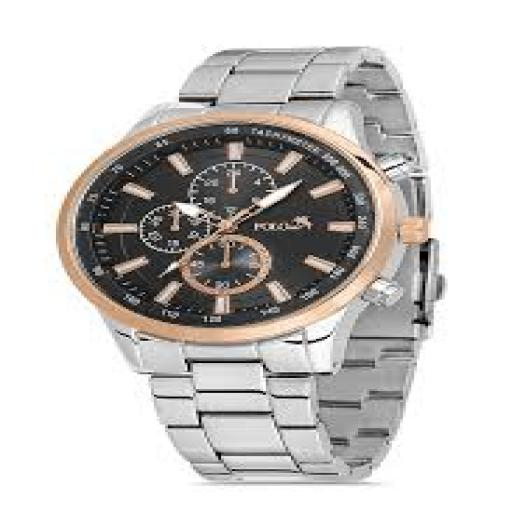KolSaati: (47, 14, 481, 504)
